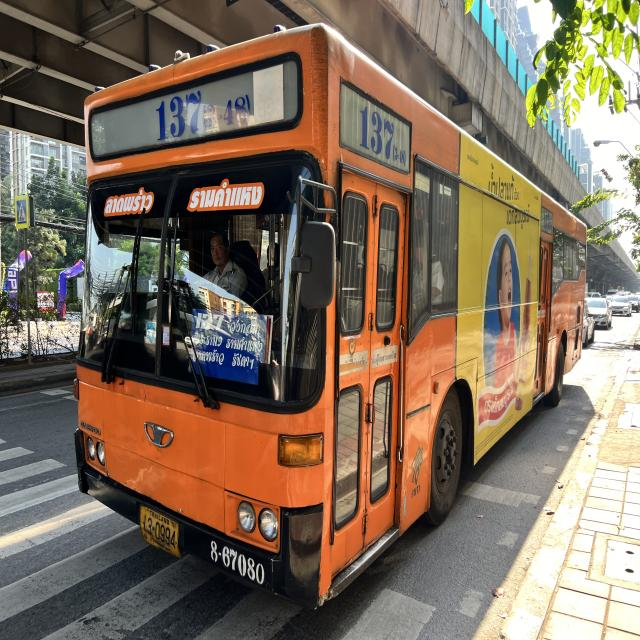BMTA-bus: (74, 24, 591, 610)
Bus-Line-Number: (148, 67, 255, 152), (353, 90, 410, 176)
Destination-Sign-Normal: (185, 305, 274, 385), (207, 534, 268, 588)
